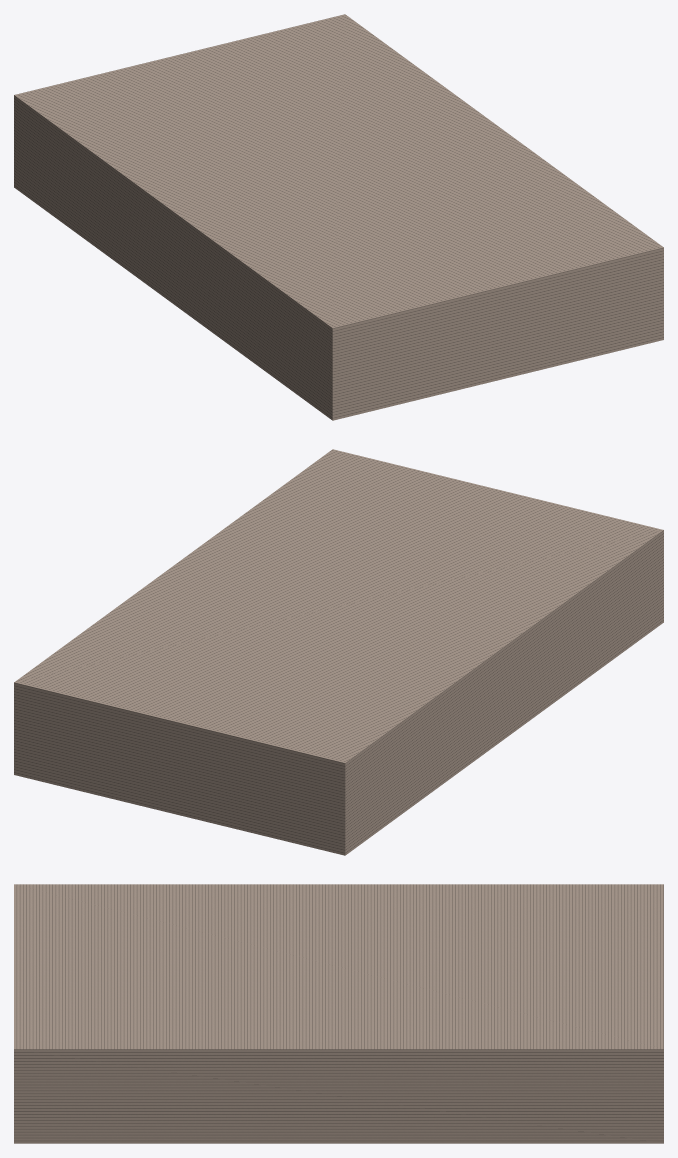
The model's file is fairground_livestock_judging_barn.glb.
3 renders of one model, top to bottom at view 1: azimuth 30°, elevation 25°; view 2: azimuth 150°, elevation 25°; view 3: azimuth 270°, elevation 25°, orthographic.
Parts seen in each view (by area): view 1: fairground_livestock_judging_barn-col; view 2: fairground_livestock_judging_barn-col; view 3: fairground_livestock_judging_barn-col.
Boxes of the visible parts, x1,y1,x2,y2 form: fairground_livestock_judging_barn-col: (14, 14, 663, 420); fairground_livestock_judging_barn-col: (14, 449, 663, 855); fairground_livestock_judging_barn-col: (14, 884, 663, 1143).
Bounding box in the file's own units: 15 × 4 × 25.
Materials: 1 (1 with a texture image).
